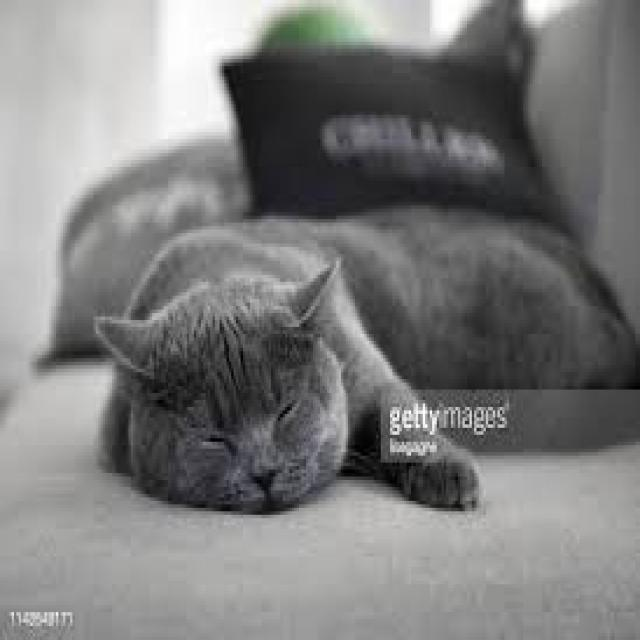Cat: (88, 208, 378, 518)
